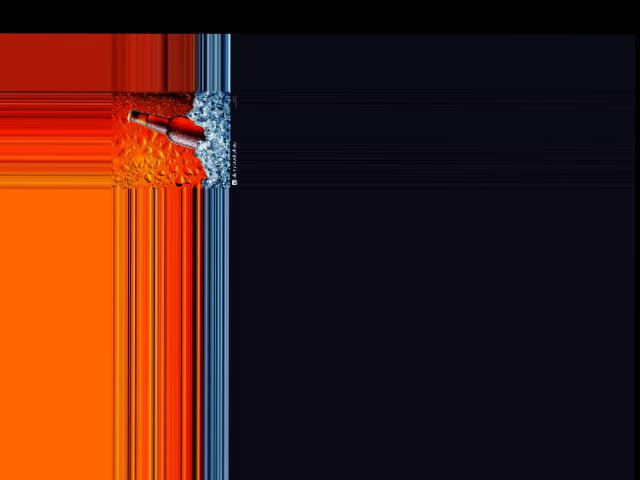beer: (127, 106, 206, 148)
